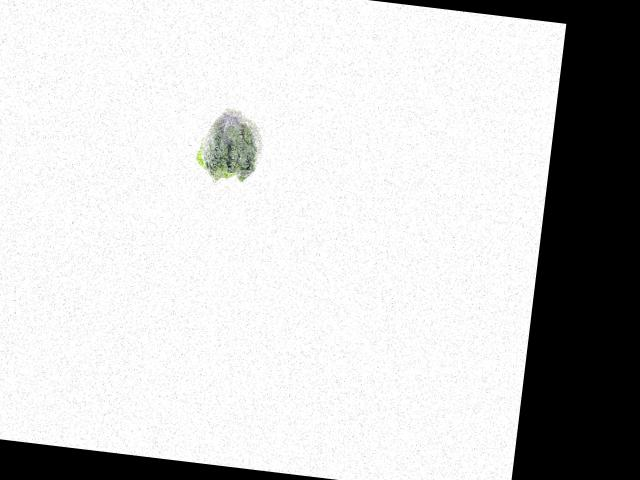lettuce: (190, 104, 268, 185)
